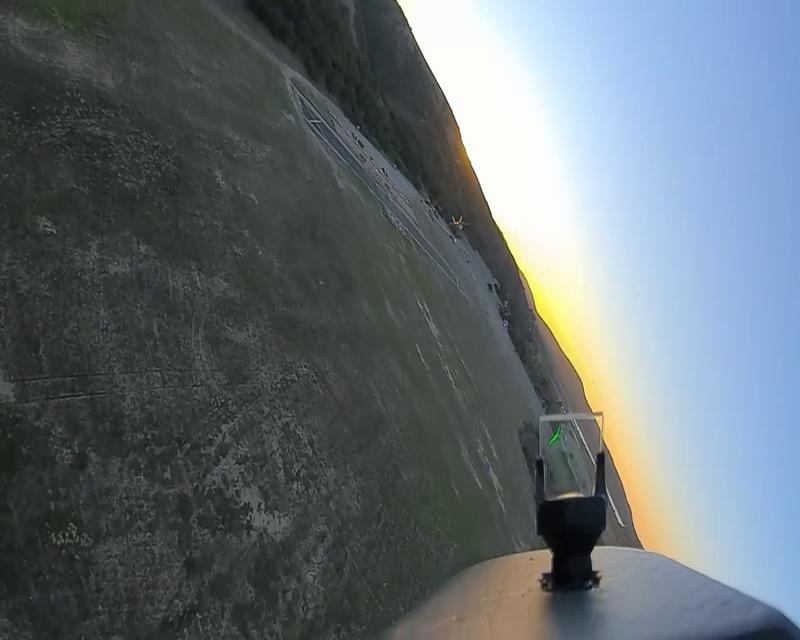UAV: (448, 213, 469, 231)
